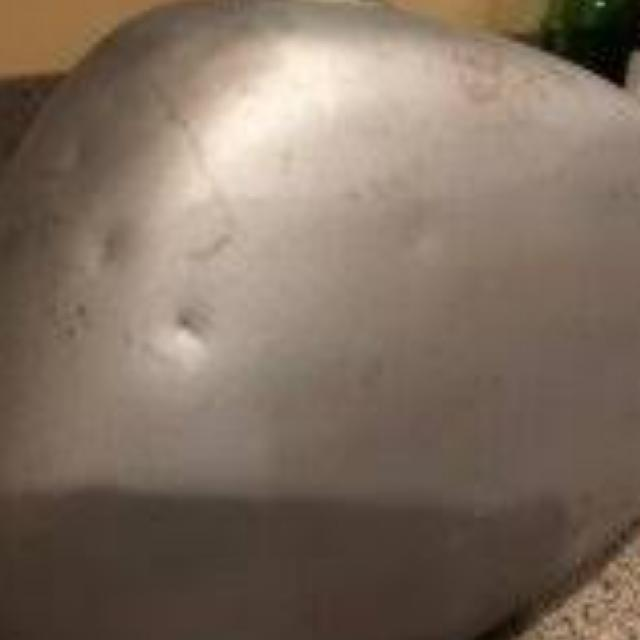dents: (140, 307, 284, 376), (70, 216, 174, 286), (376, 203, 466, 283), (35, 125, 119, 202)
